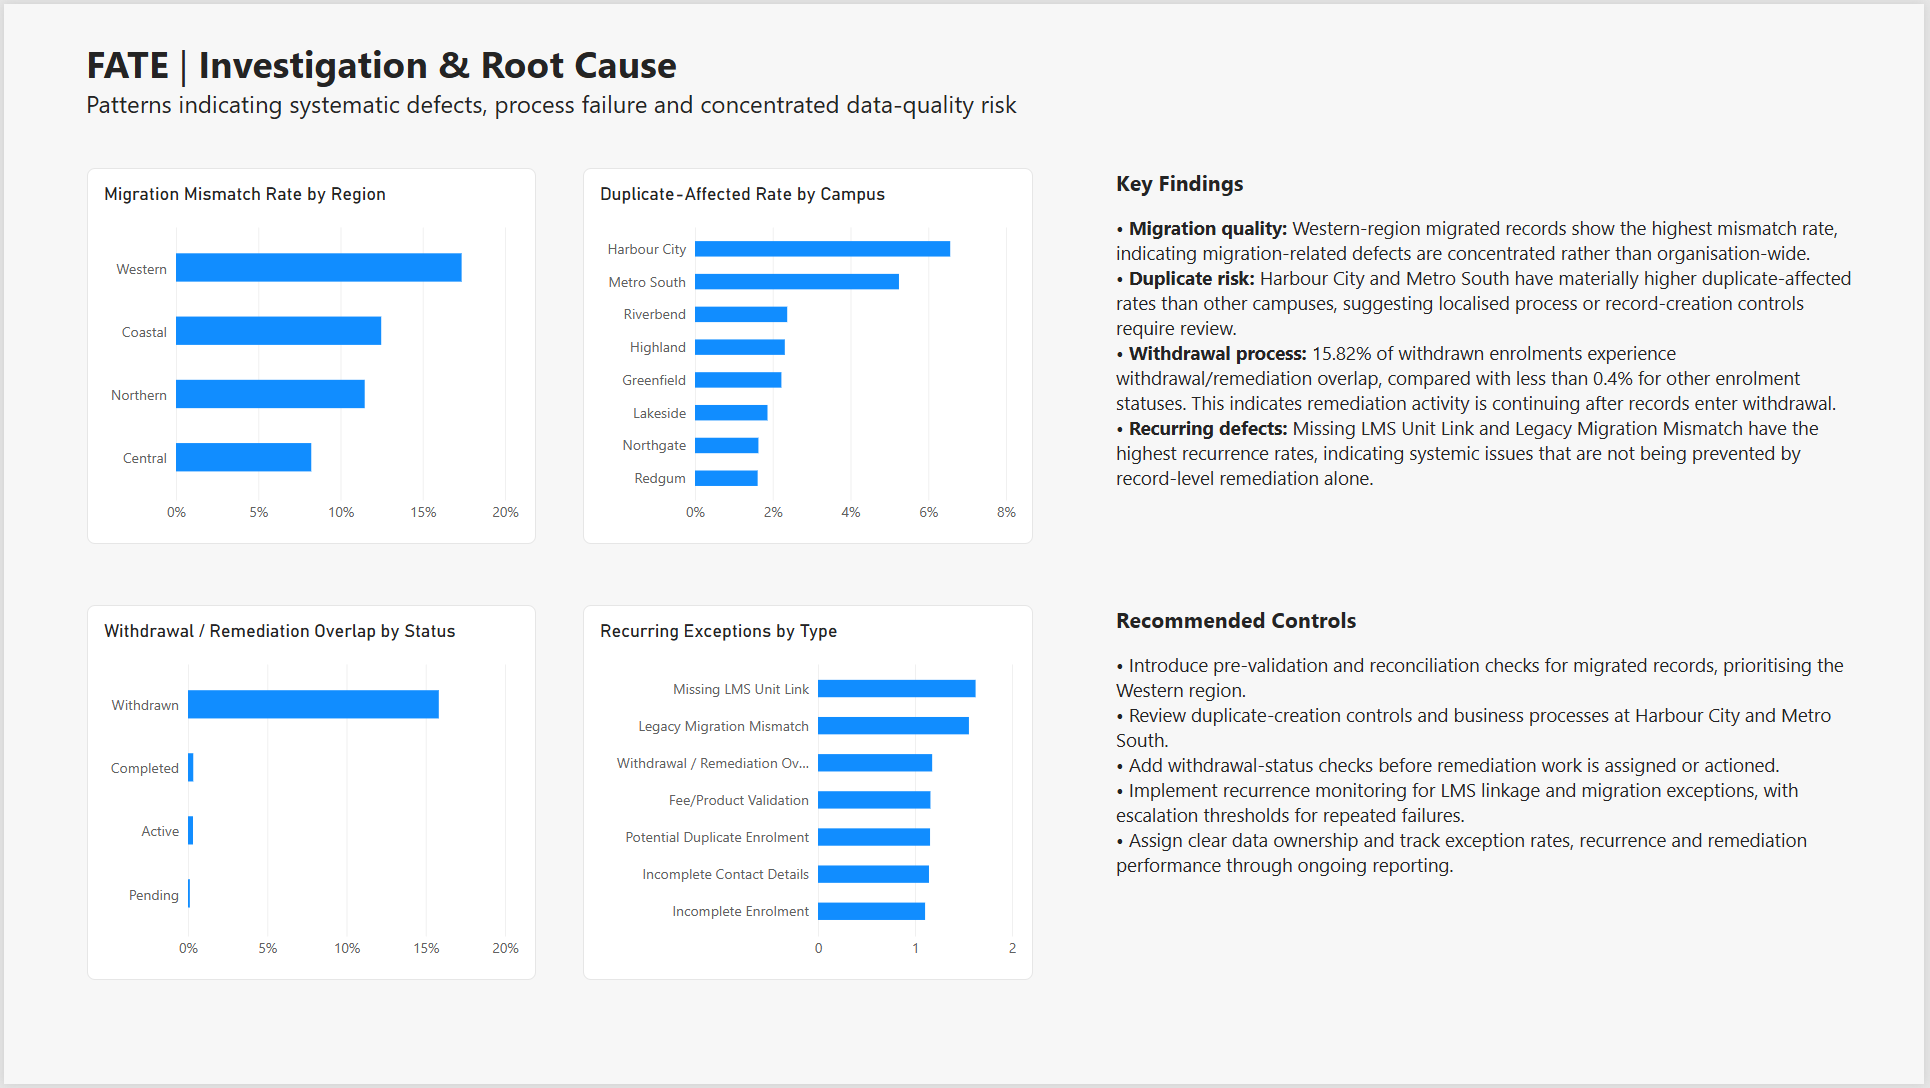

What the dashboard file says about the page in this screenshot:
{"tool":"powerbi","page":{"name":"Investigation & Root Cause","canvas":[1920,1080],"ordinal":1},"visuals":[{"type":"textbox","box":[82.2,34.3,994.9,97.3],"z":0},{"type":"clusteredBarChart","title":"Migration Mismatch Rate by Region","fields":{"Category":["Enrolments.Region"],"Y":["Exceptions.Migration Mismatch Rate"]},"box":[82.6,163.9,449.8,375.9],"z":1},{"type":"clusteredBarChart","title":"Duplicate-Affected Rate by Campus","fields":{"Category":["Enrolments.CampusName"],"Y":["Exceptions.Duplicate Affected Rate"]},"box":[579.2,163.9,449.8,375.9],"z":2},{"type":"clusteredBarChart","title":"Withdrawal / Remediation Overlap by Status","fields":{"Category":["Enrolments.EnrolmentStatus"],"Y":["Exceptions.Withdrawal Overlap Rate"]},"box":[82.6,601.4,449.8,375],"z":3},{"type":"clusteredBarChart","title":"Recurring Exceptions by Type","fields":{"Category":["Exceptions.ExceptionType"],"Y":["Exceptions.Occurrences per Affected Enrolment"]},"box":[579.2,601.4,449.8,375],"z":4},{"type":"textbox","box":[1111.6,163.9,749.3,437.5],"z":5},{"type":"textbox","box":[1111.6,601.4,749.3,348.8],"z":6}]}

Visuals, with their boxes in screenshot pixels (x1, y1, x2, y2), scaled from the page's 1920x1080 canvas onto the 1930x1088 screenshot:
textbox: [83, 35, 1083, 133]
"Migration Mismatch Rate by Region" clusteredBarChart: [83, 165, 535, 544]
"Duplicate-Affected Rate by Campus" clusteredBarChart: [582, 165, 1034, 544]
"Withdrawal / Remediation Overlap by Status" clusteredBarChart: [83, 606, 535, 984]
"Recurring Exceptions by Type" clusteredBarChart: [582, 606, 1034, 984]
textbox: [1117, 165, 1871, 606]
textbox: [1117, 606, 1871, 957]
